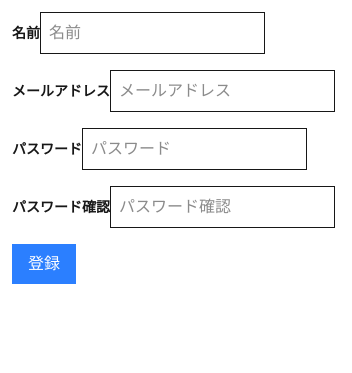
Test: RegisterForm › shows validation errors on submit without input
Click the button "登録" at (44, 264), box [12,244,76,284]
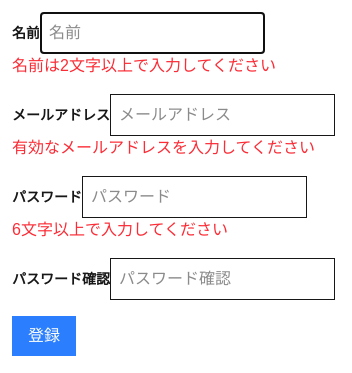
Expected: the text "名前は2文字以上で入力してください" is shown, [12,57,276,74]
Expected: the text "有効なメールアドレスを入力してください" is shown, [12,139,315,156]
Expected: the text "6文字以上で入力してください" is shown, [12,221,228,238]
